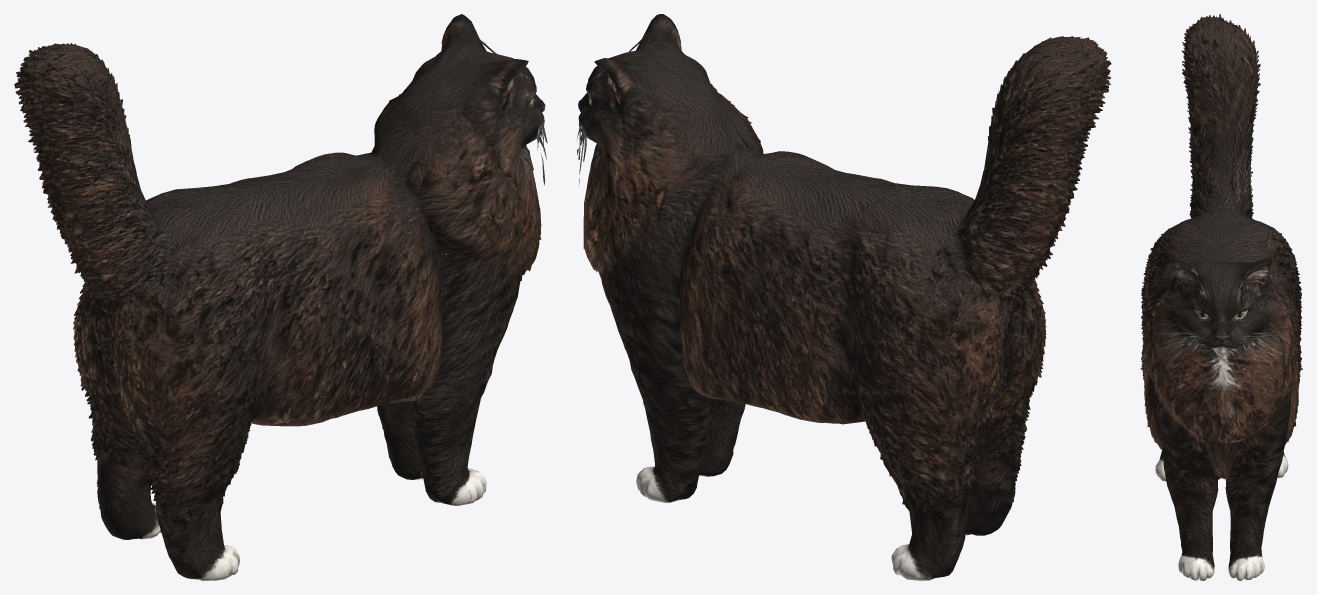
Rendered from BURWOODCAT.glb.
3 renders of one model, left to right at view 1: azimuth 30°, elevation 25°; view 2: azimuth 150°, elevation 25°; view 3: azimuth 270°, elevation 25°, orthographic. The views are drawn at different scales.
Visible parts, largest first — view 1: tripo_node_1eebbb5e-5b92-4ed1-b4ae-961cce643646; view 2: tripo_node_1eebbb5e-5b92-4ed1-b4ae-961cce643646; view 3: tripo_node_1eebbb5e-5b92-4ed1-b4ae-961cce643646.
Part boxes in pixels (bbox=[...]): tripo_node_1eebbb5e-5b92-4ed1-b4ae-961cce643646: bbox=[14, 14, 547, 580]; tripo_node_1eebbb5e-5b92-4ed1-b4ae-961cce643646: bbox=[576, 14, 1111, 580]; tripo_node_1eebbb5e-5b92-4ed1-b4ae-961cce643646: bbox=[1140, 14, 1302, 580].
Size of the model in its own units: 1.03 by 0.999 by 0.3598.
Materials: 1 (1 with a texture image).
